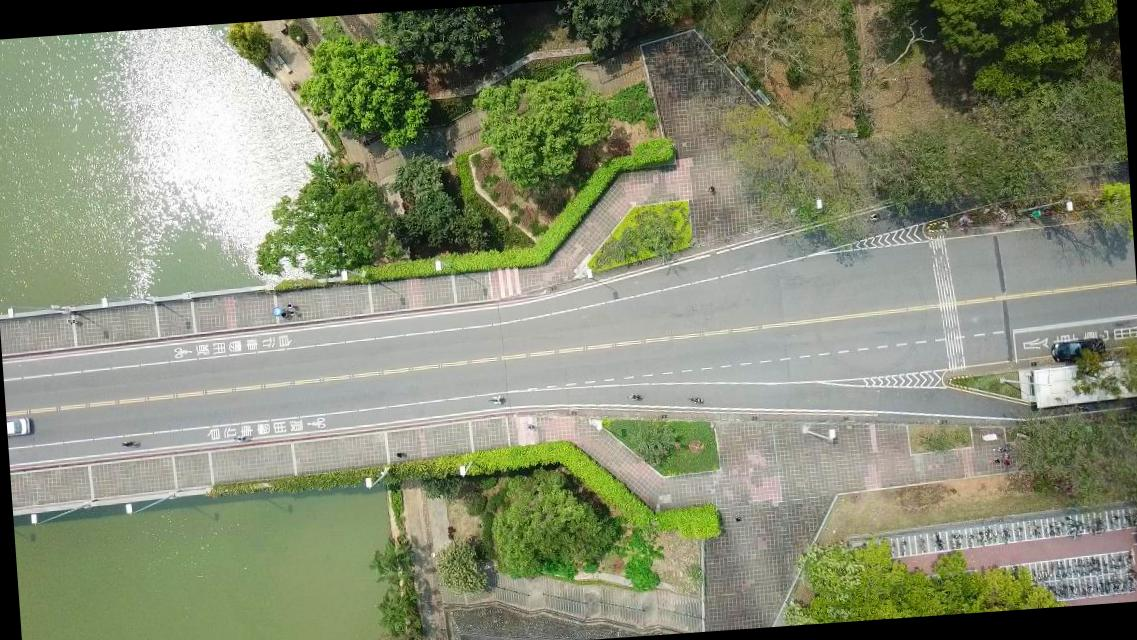vehicle: (1050, 338, 1105, 363), (6, 414, 31, 438)
